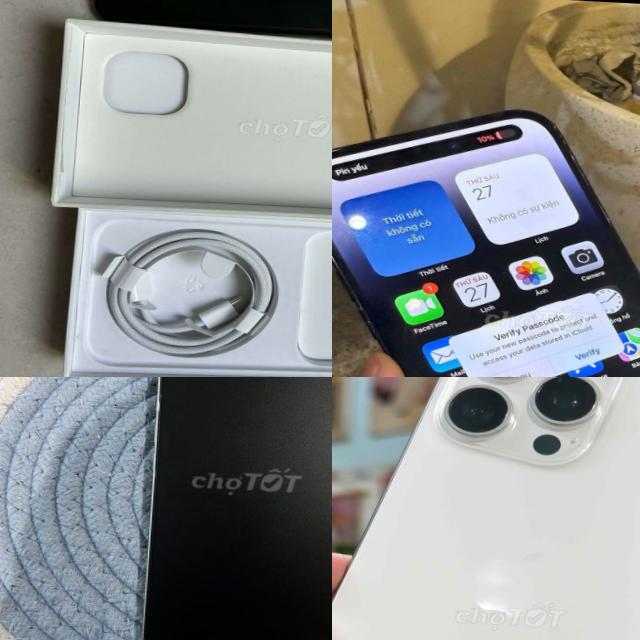gen_14: (332, 93, 640, 377)
gen_15: (123, 377, 332, 640)
gen_16: (332, 377, 640, 640)
scratch: (150, 394, 167, 417)
